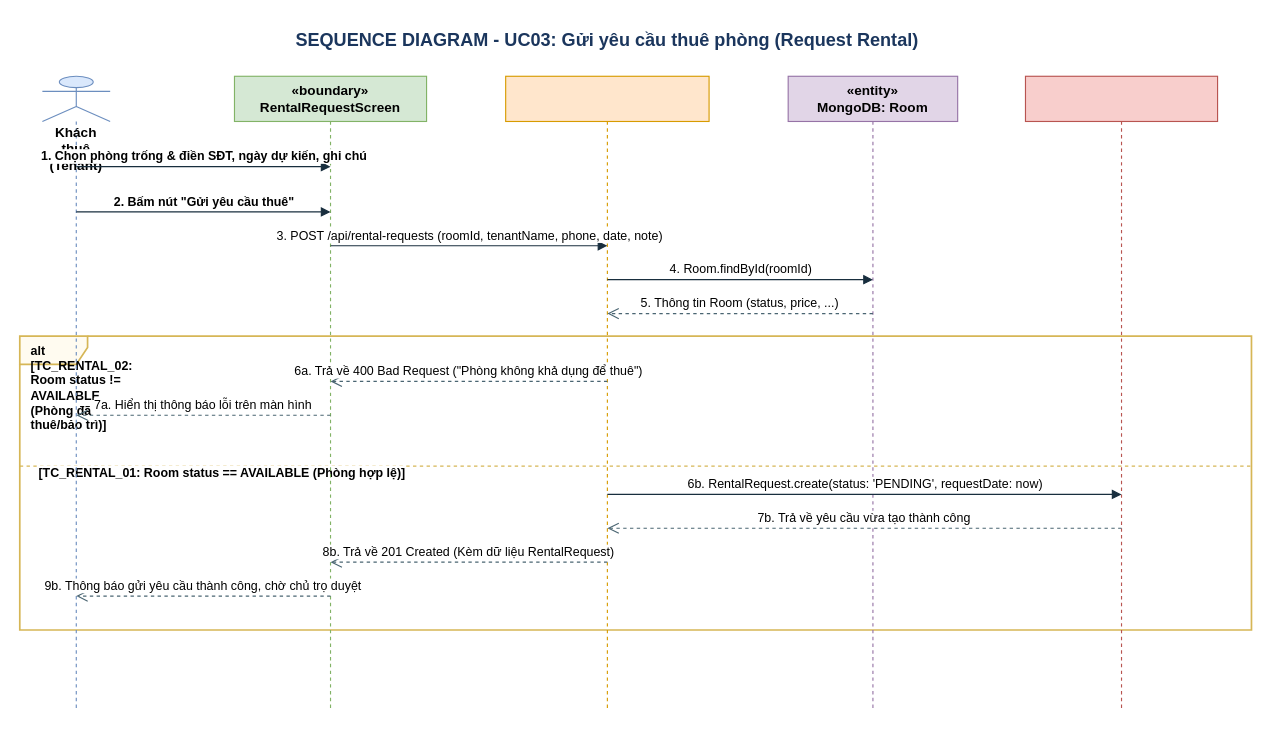
Some shapes in this 1272 by 729 pixel diagram are drawn without their labels. The shapes that lost their labels are listed below. From the top down, each one's box as (x1, y1, x2, y2) in pixels, then its label:
(505, 75, 709, 709): «control» RentalRequestController
(1024, 75, 1218, 709): «entity» MongoDB: RentalRequest
